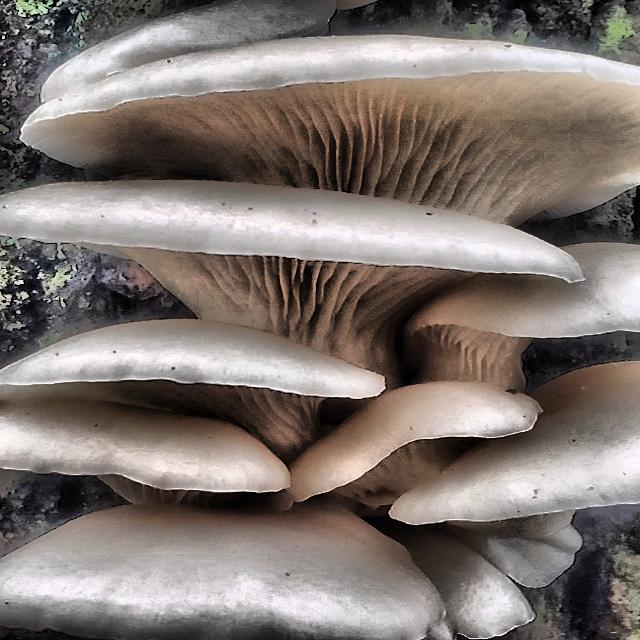Healthy: (179, 70, 640, 275), (44, 522, 640, 640)
